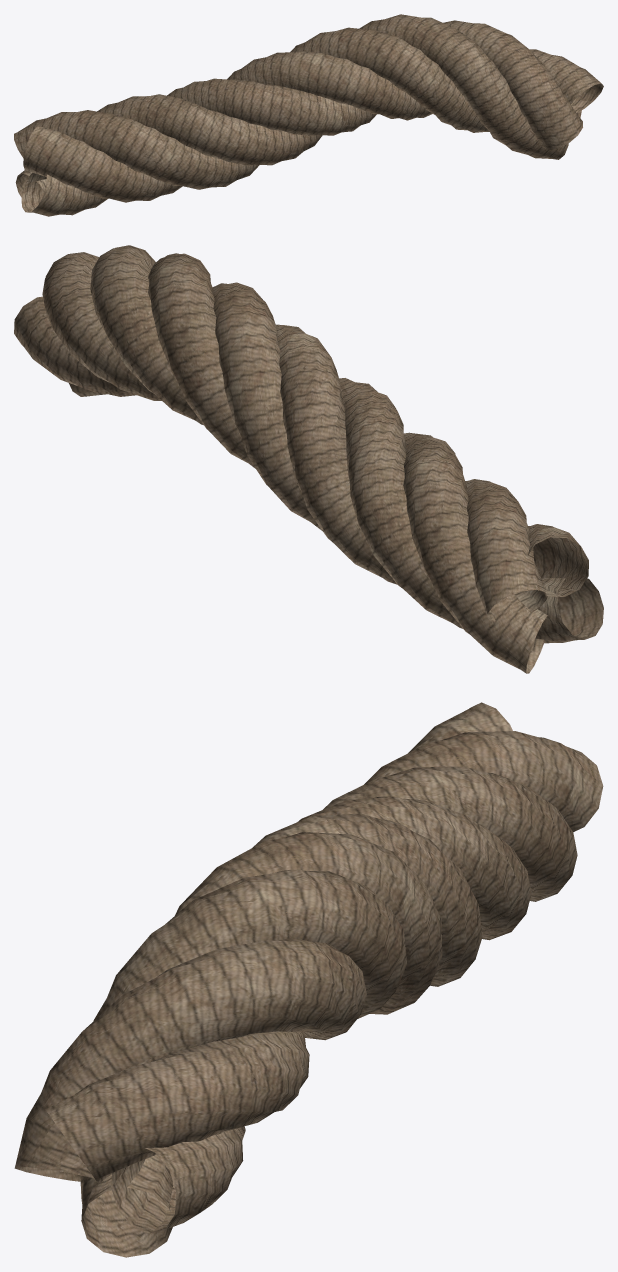
Rendered from rope.fbx.
3 renders of one model, top to bottom at view 1: azimuth 30°, elevation 25°; view 2: azimuth 150°, elevation 25°; view 3: azimuth 270°, elevation 25°, orthographic. The views are drawn at different scales.
Visible parts, largest first — view 1: Circle; view 2: Circle; view 3: Circle.
Boxes of the visible parts, x1,y1,x2,y2 form: Circle: (14,14,603,216); Circle: (14,245,603,673); Circle: (14,702,603,1257).
Bounding box in the file's own units: 327 × 105 × 171.
1 material, 1 textured.
